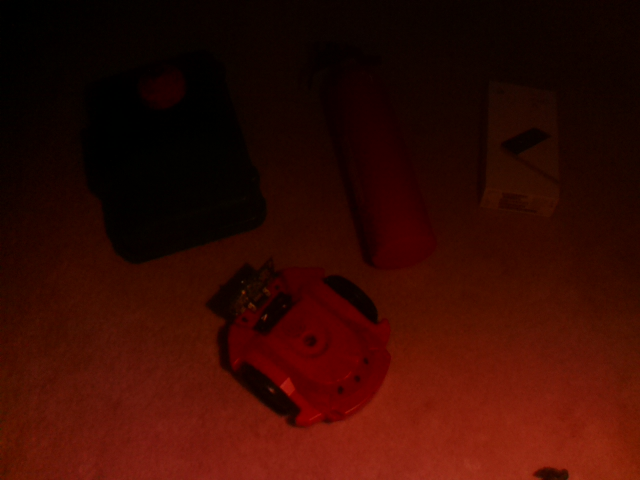chassis: (222, 255, 397, 428)
